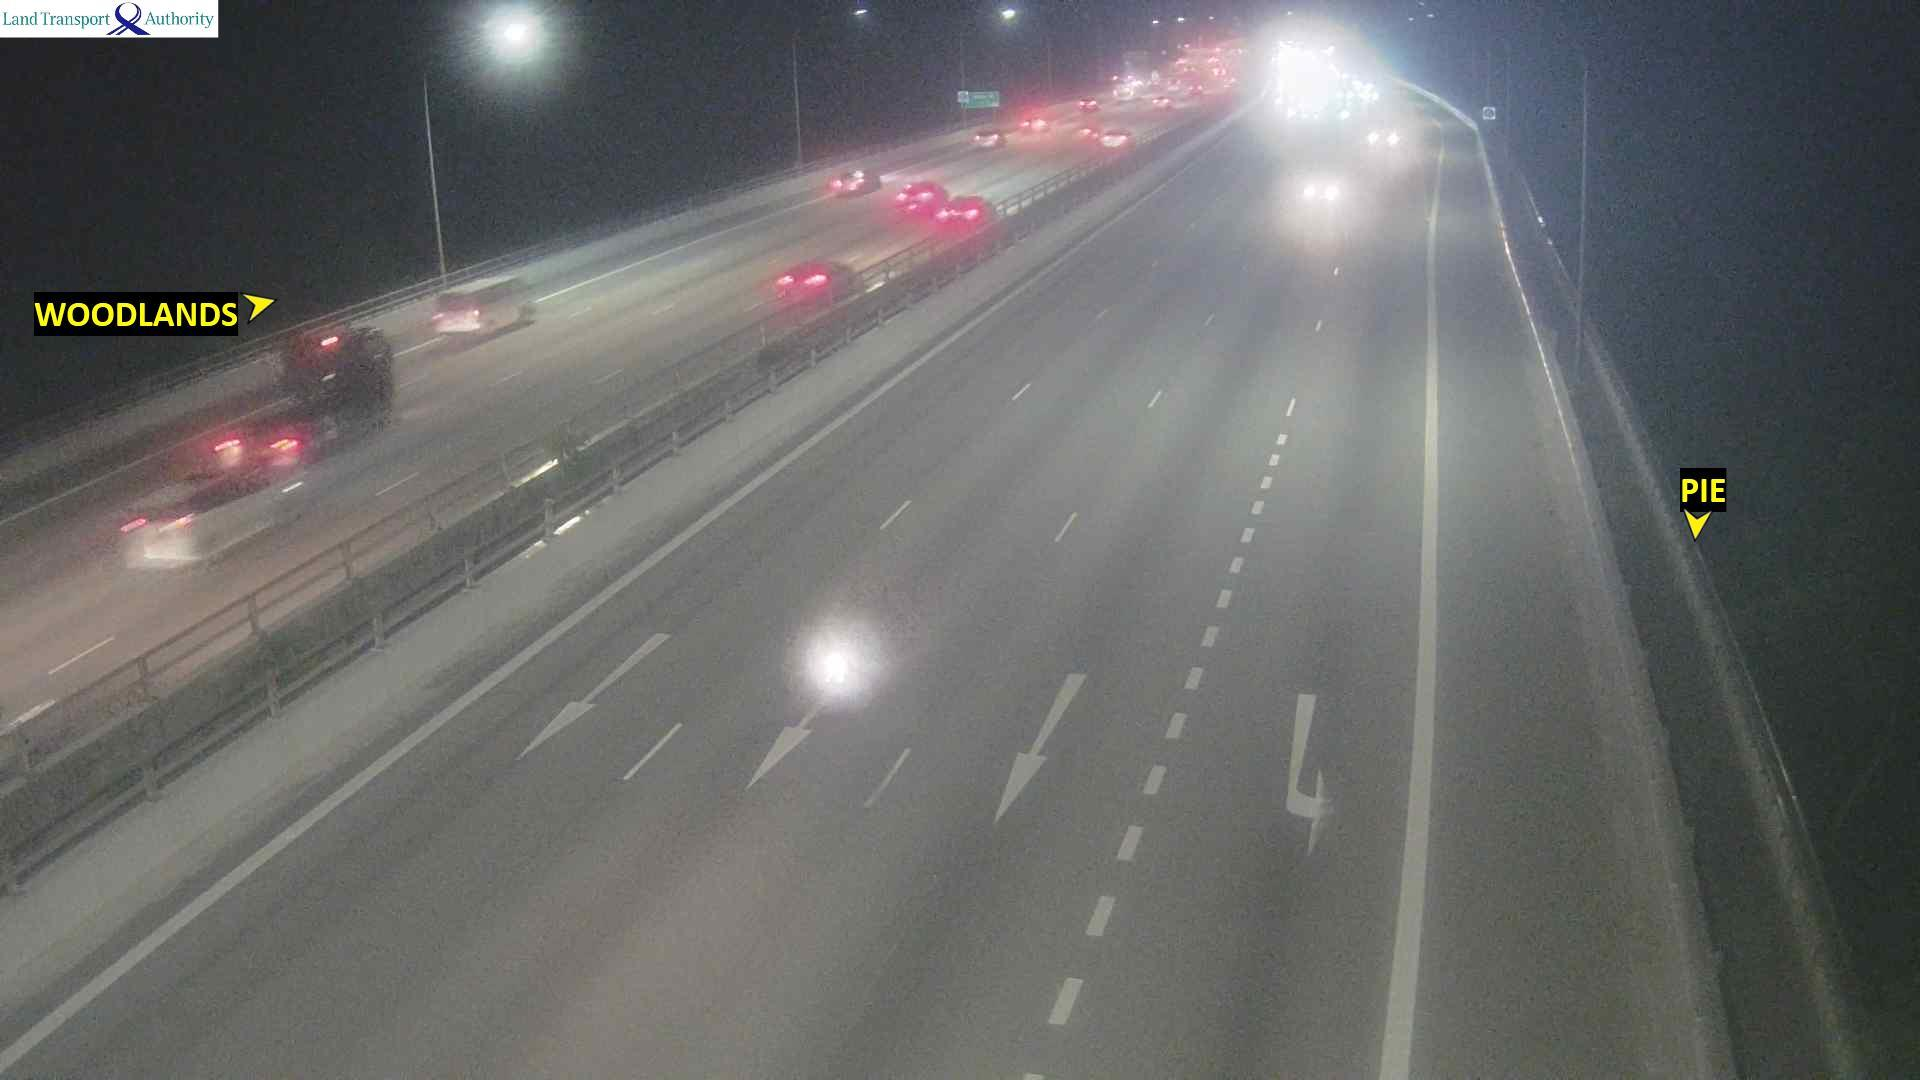cars: (116, 471, 311, 571), (425, 278, 533, 347), (772, 258, 856, 306), (1293, 162, 1349, 210), (893, 179, 947, 218), (933, 194, 985, 231), (826, 167, 880, 196), (1365, 122, 1401, 150), (1096, 125, 1132, 150), (972, 127, 1005, 149), (1018, 111, 1048, 131), (1111, 80, 1138, 101), (1077, 97, 1099, 112)
motorcycle: (792, 592, 918, 712)
trucks: (203, 321, 393, 474)
